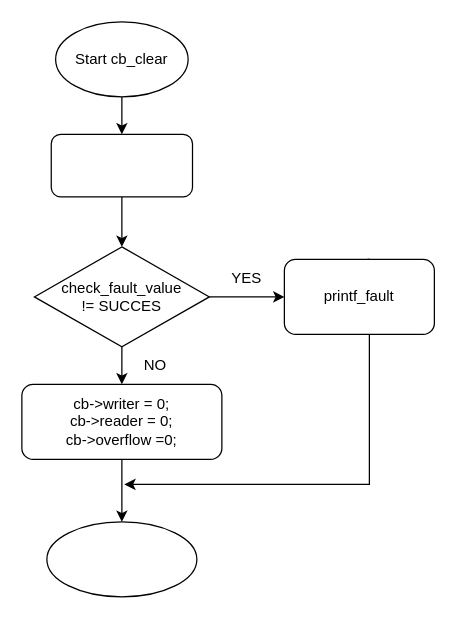
This 456x619 diagram has some shape labels left out. The shapes that lost their labels are listed below. From the top down, each one's centre as x and y in pixels, then its label:
the point at 121,165: check_fault_value
the point at 121,559: End
